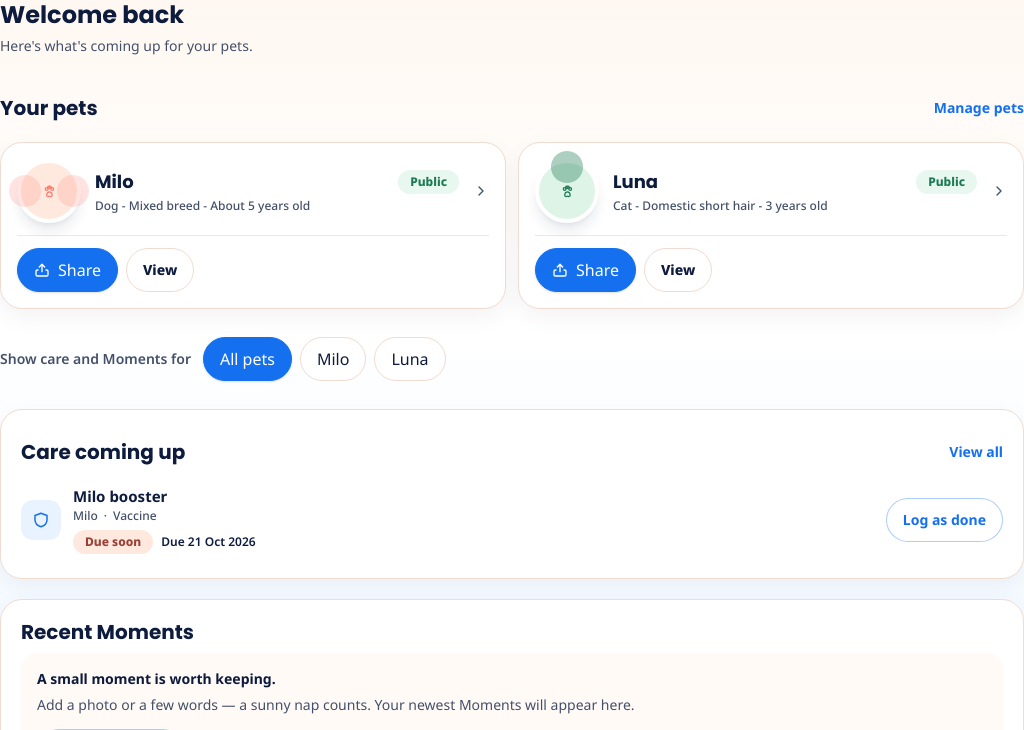
Care consistency and wording › says a filtered pet's care is unavailable when the summary does not cover it
Click the button "Luna".
click(410, 359)  # box x1=374 y1=337 x2=446 y2=381
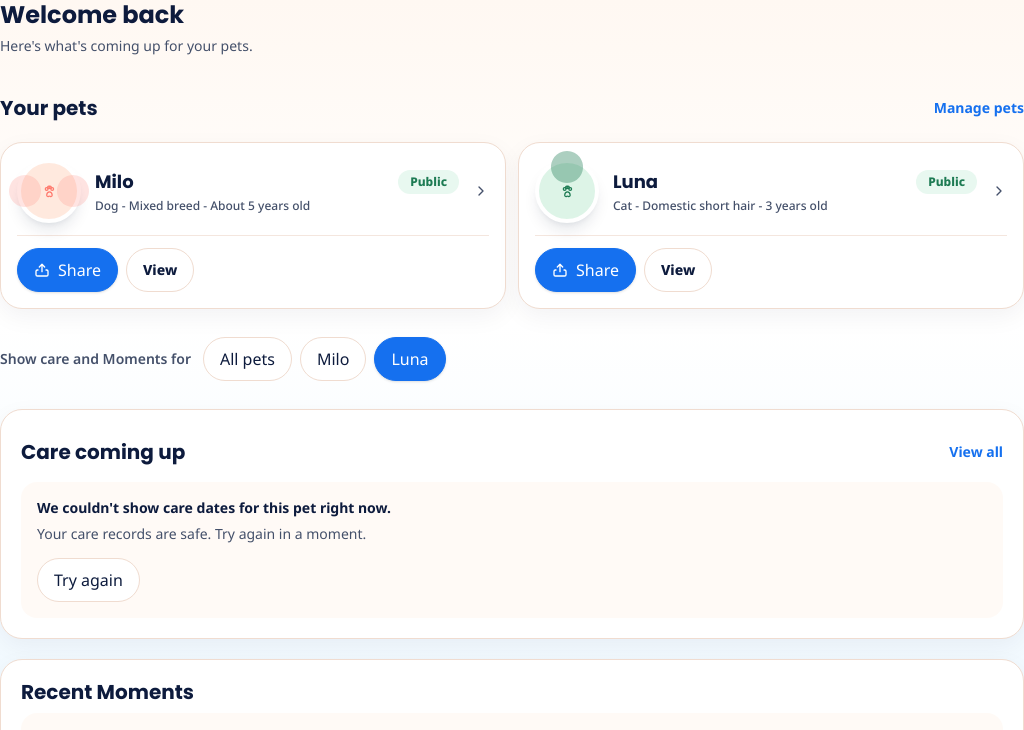
Expected: the text "We couldn't show care dates for this pet right now." is shown, x1=37 y1=498 x2=391 y2=517
